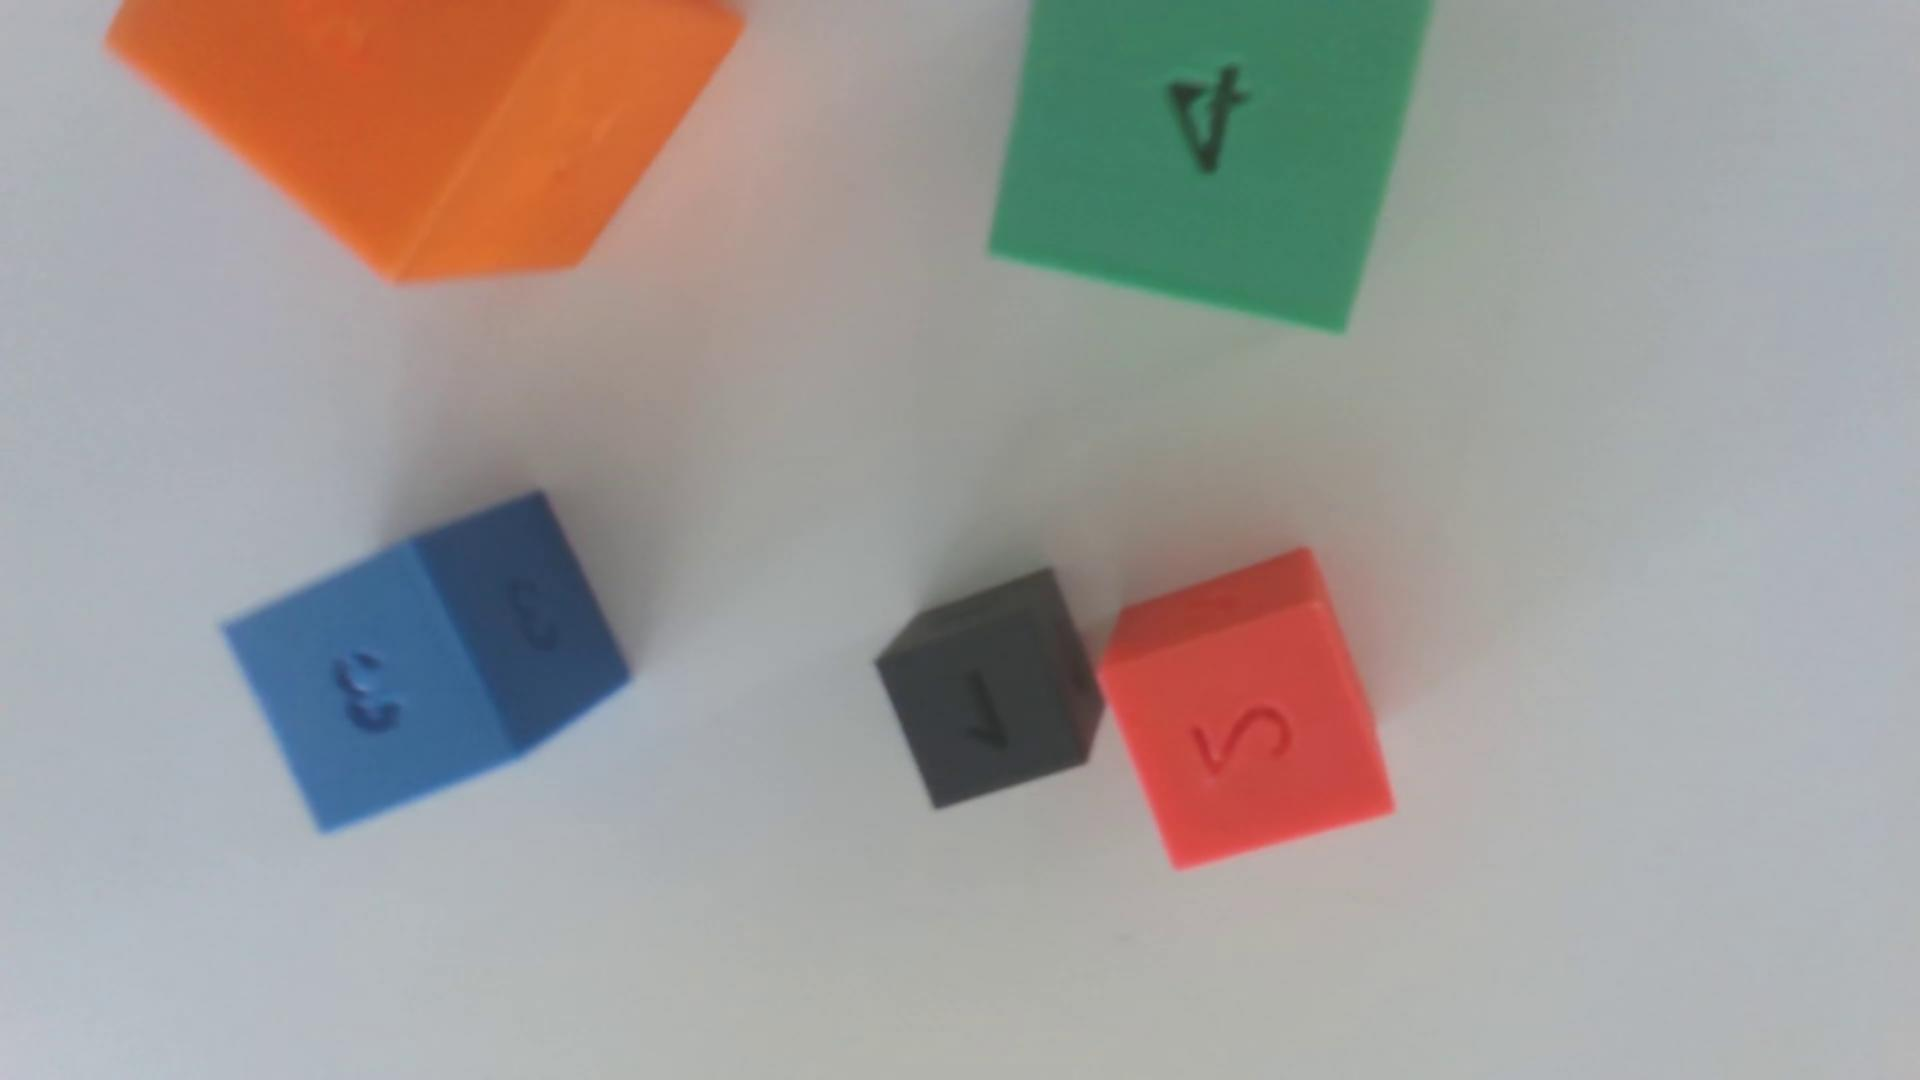black: (874, 568, 1102, 808)
blue: (222, 491, 632, 831)
green: (989, 0, 1431, 331)
orange: (107, 0, 742, 282)
red: (1100, 547, 1394, 868)
